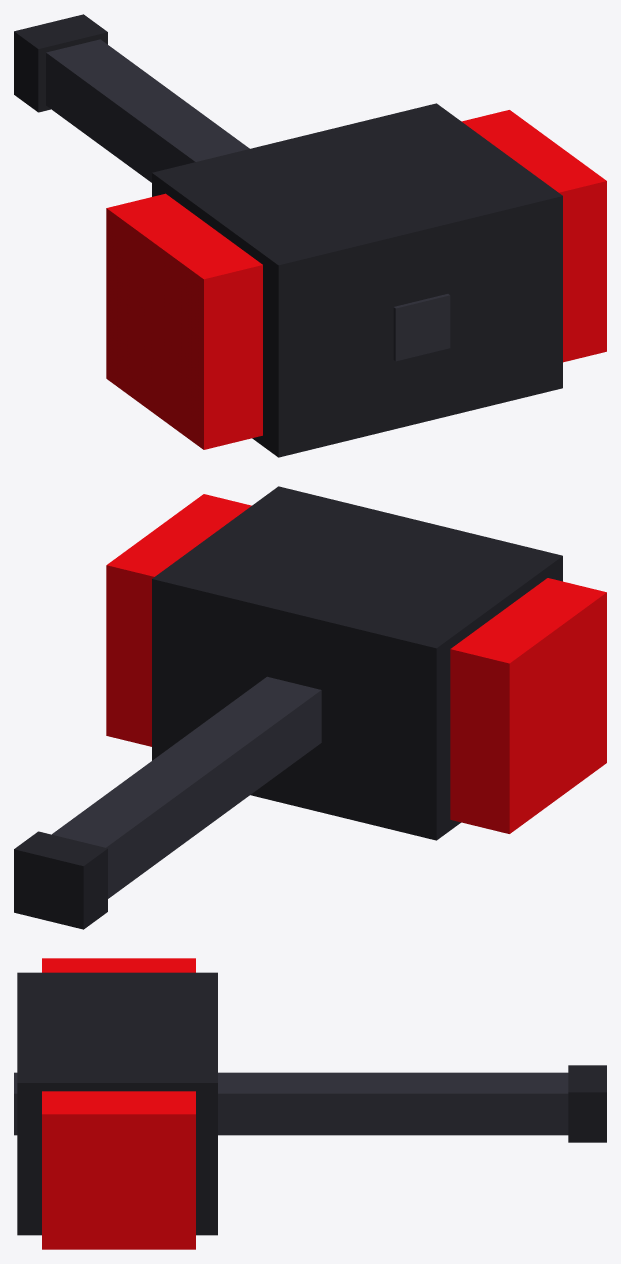
File: Hammer 01.FBX
The picture shows the model from 3 angles, top to bottom: view 1: azimuth 30°, elevation 25°; view 2: azimuth 150°, elevation 25°; view 3: azimuth 270°, elevation 25°; orthographic projection. The views are drawn at different scales.
Parts seen in each view (by area): view 1: Hammer 01; view 2: Hammer 01; view 3: Hammer 01.
Boxes of the visible parts, x1=… form: Hammer 01: x1=14, y1=14, x2=606, y2=457; Hammer 01: x1=14, y1=486, x2=606, y2=929; Hammer 01: x1=14, y1=958, x2=606, y2=1249.
Bounding box in the file's own units: 34.12 × 15.55 × 54.84.
